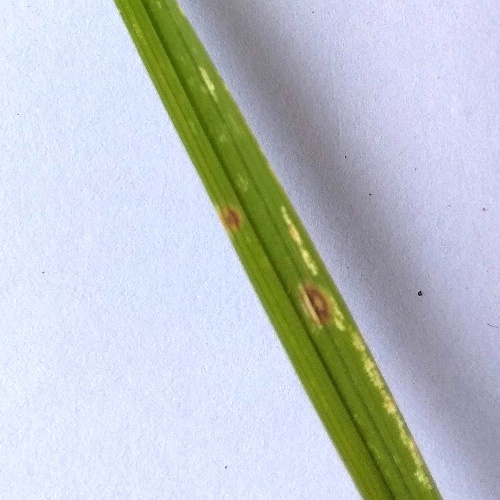Busuk Leher: (275, 196, 316, 271), (295, 281, 339, 326), (191, 60, 227, 100), (399, 423, 425, 474), (215, 204, 248, 240), (376, 381, 405, 420), (353, 337, 378, 376)
